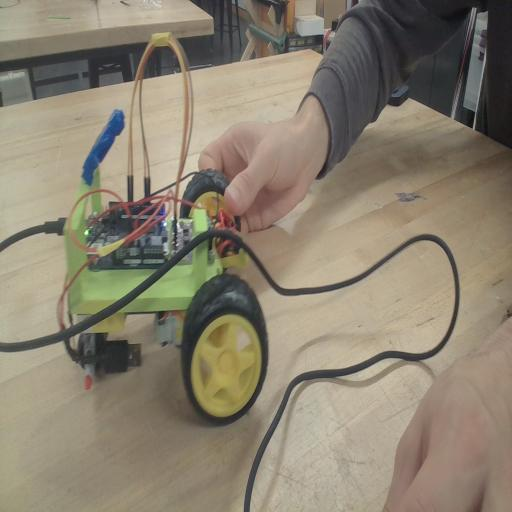blue LEGO minifig: (79, 104, 126, 182)
